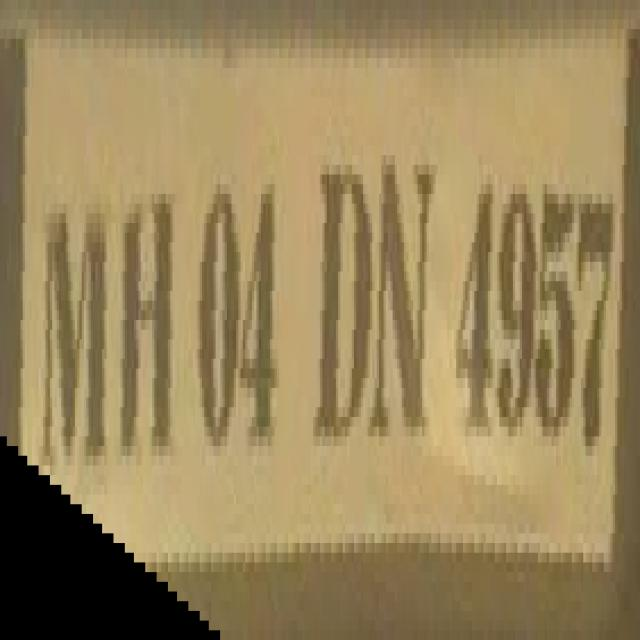license_plate: (0, 9, 608, 592)
